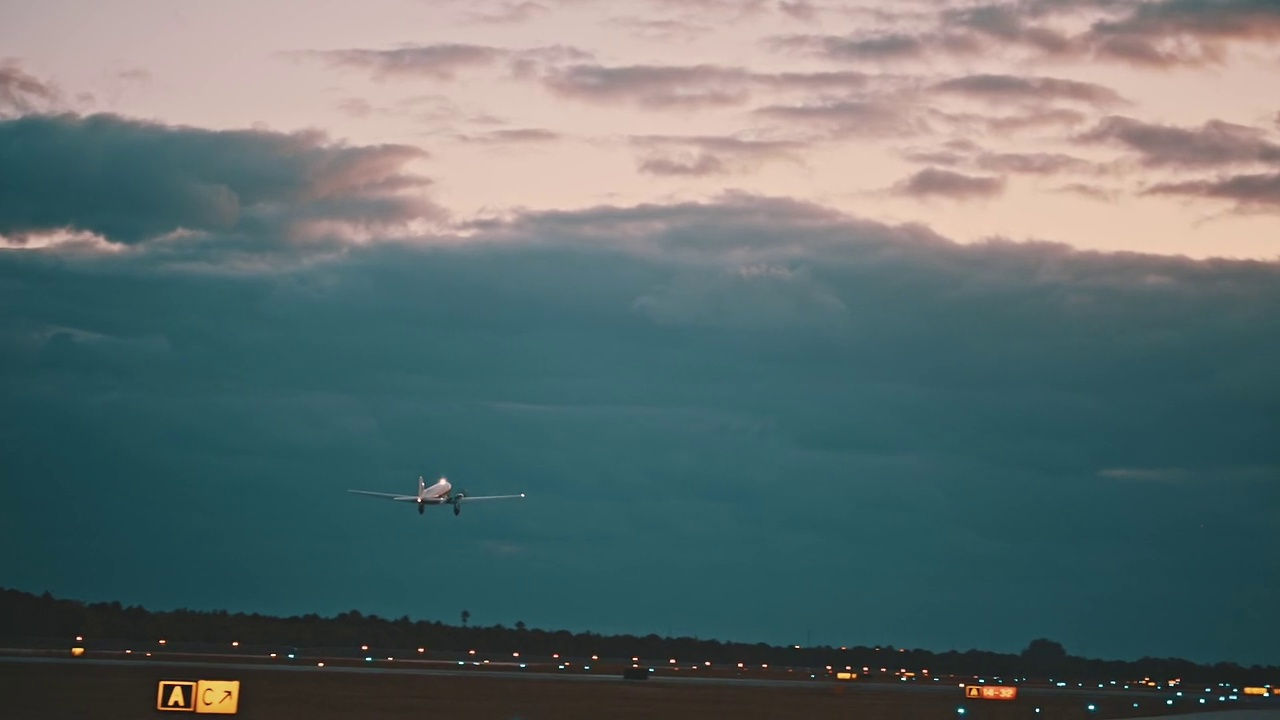plane: (345, 476, 524, 518)
